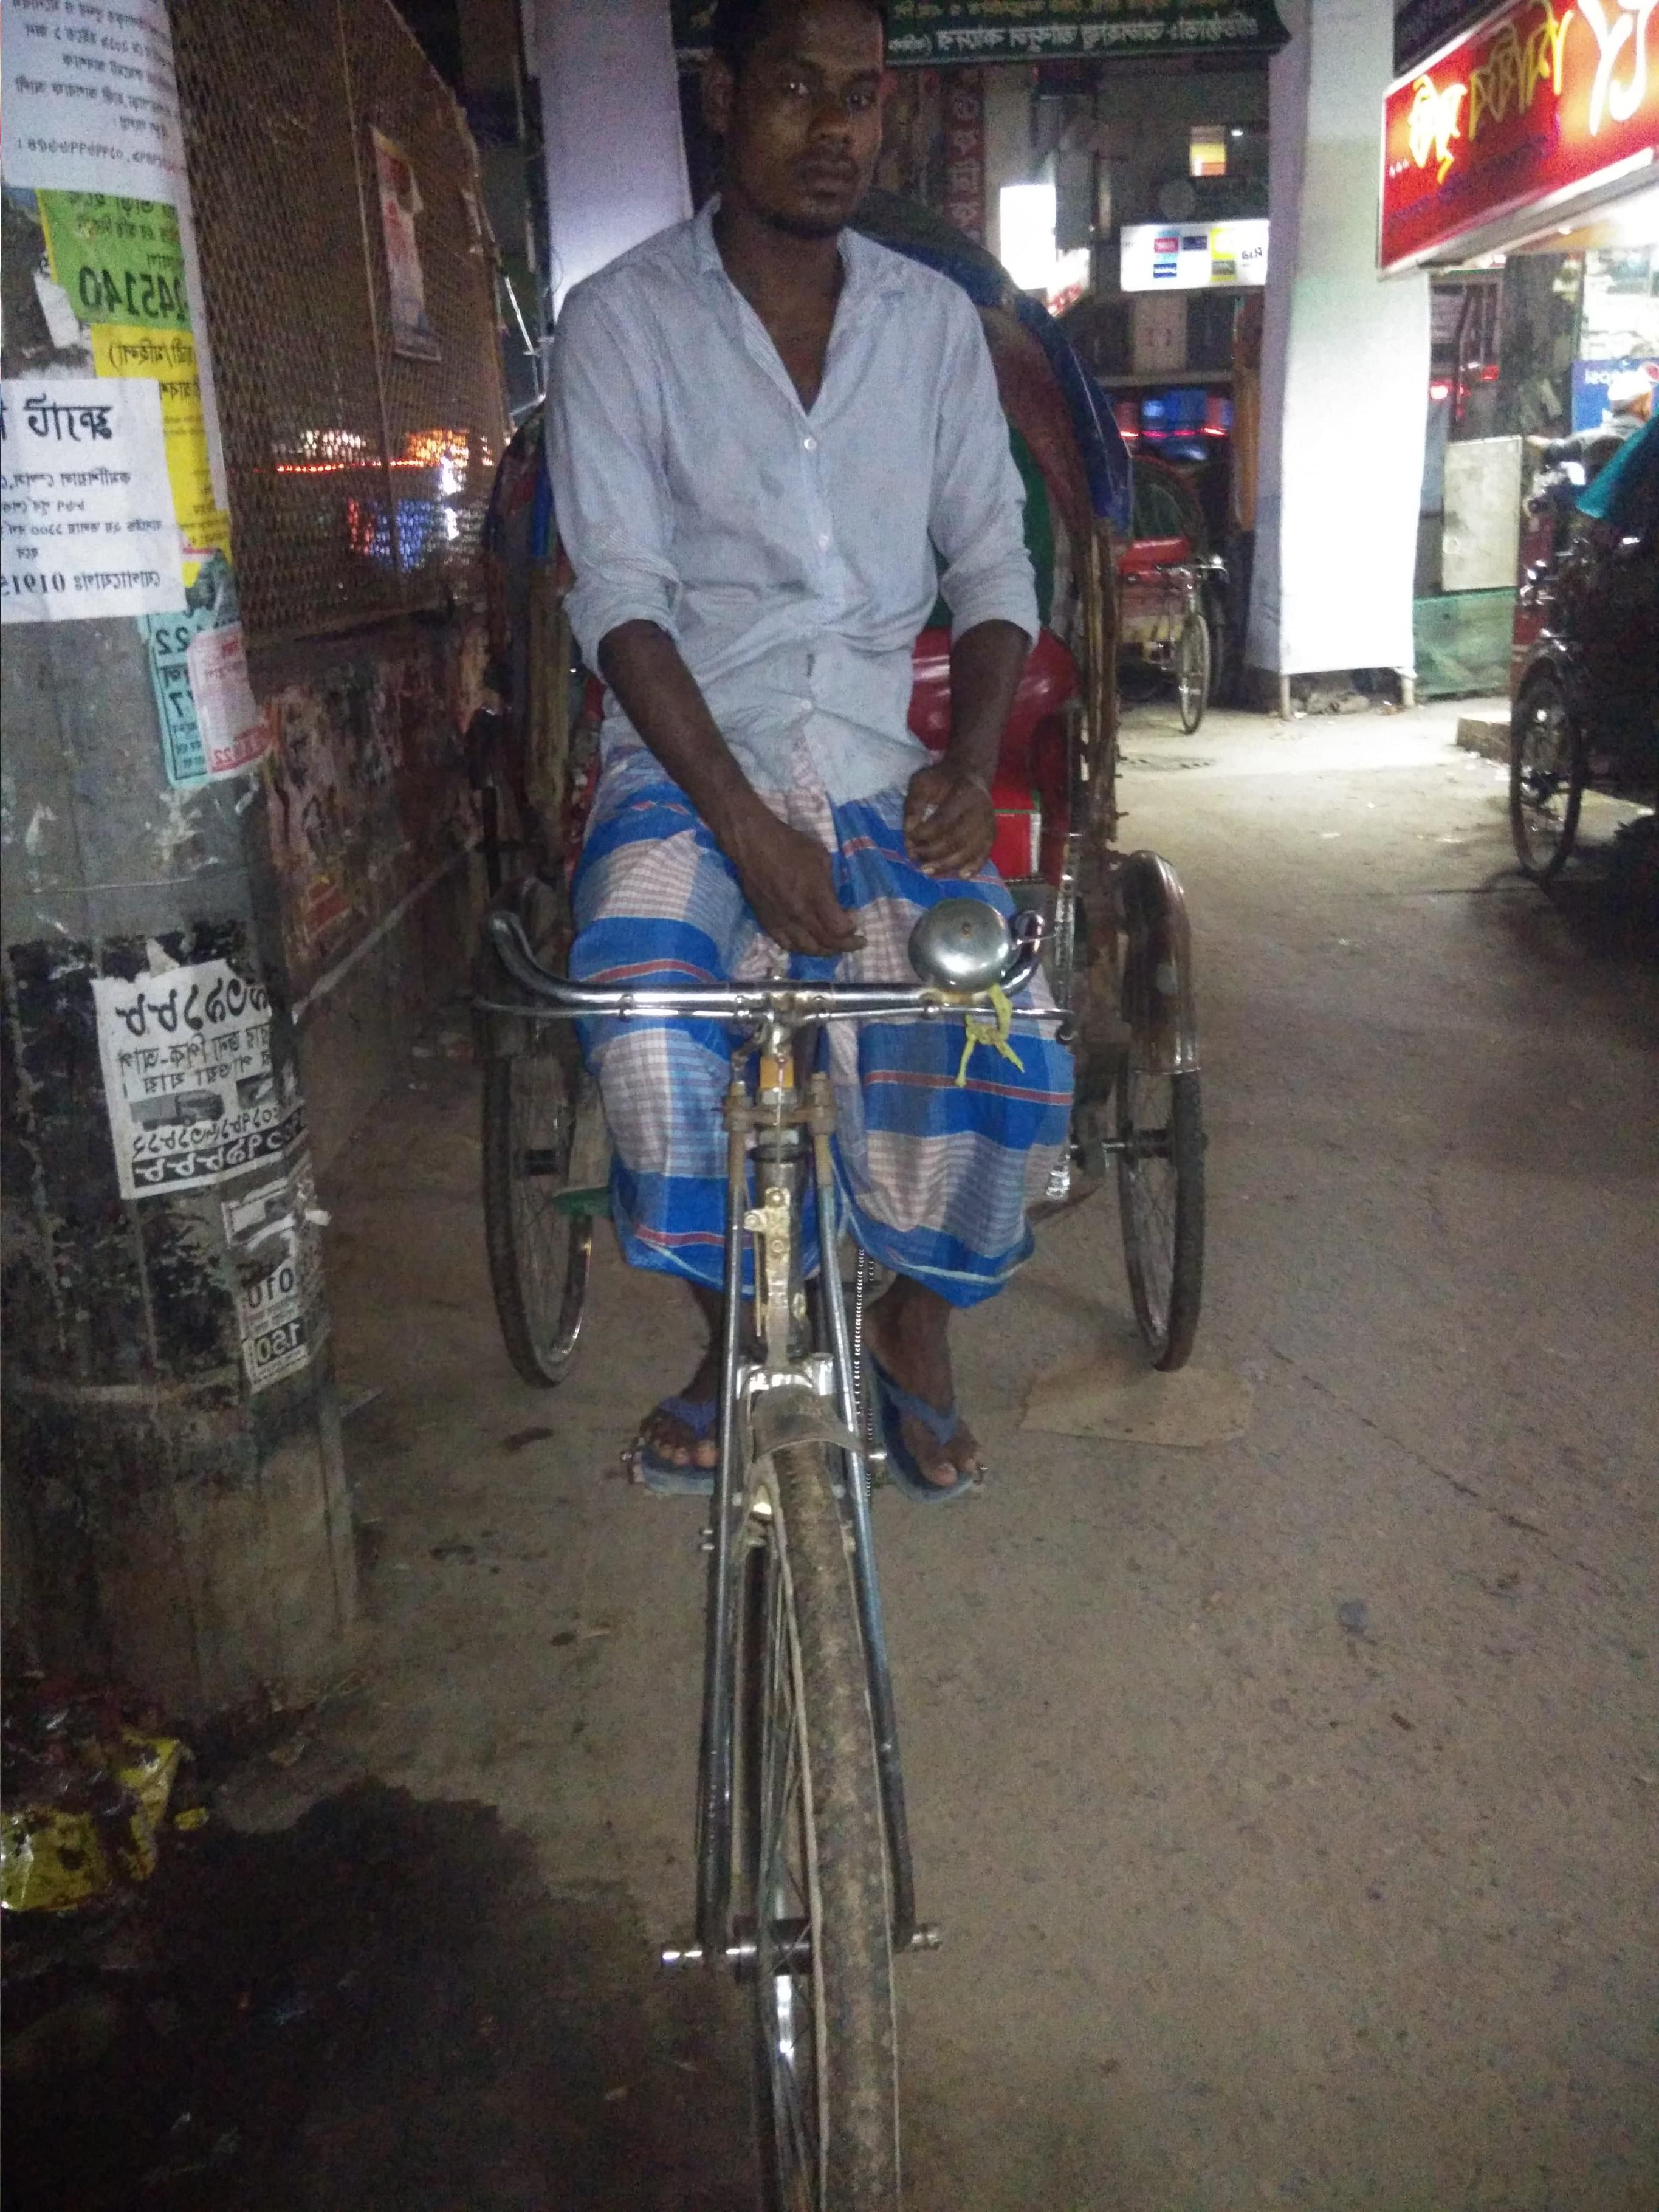Rickshaw: (498, 176, 1253, 2029)
